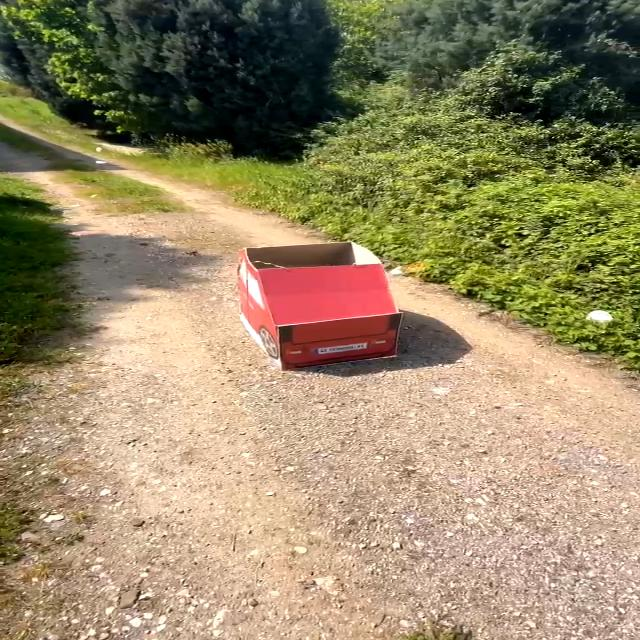red_car: (222, 230, 435, 390)
